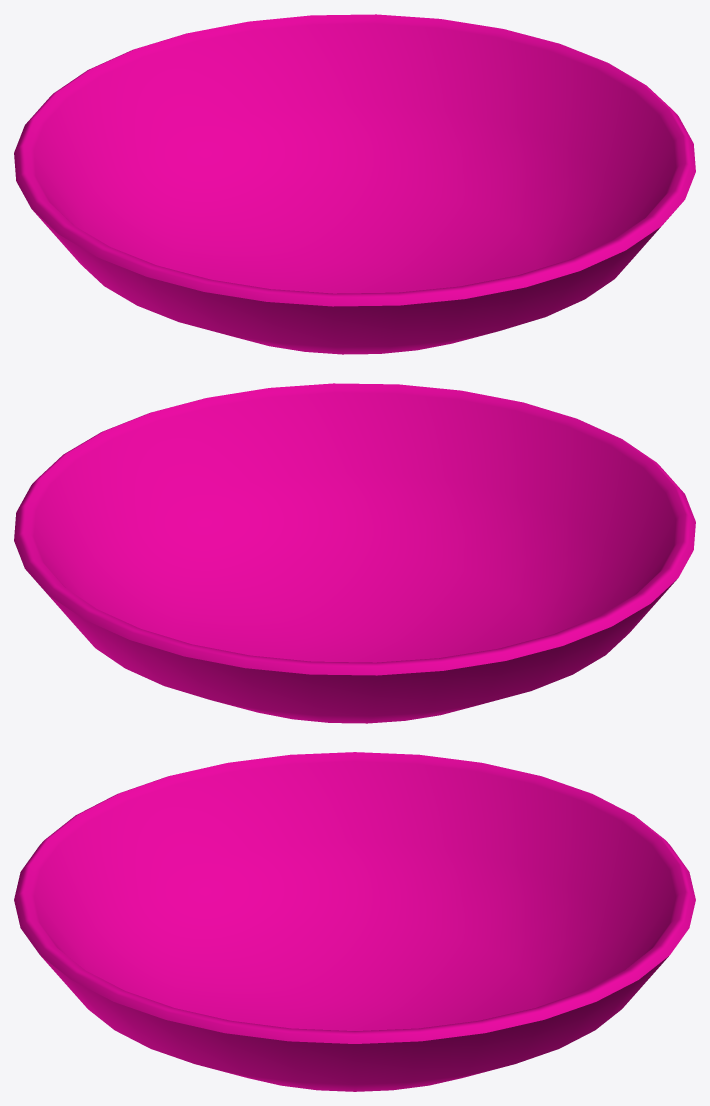
File: SM_SunakTabak.fbx
The picture shows the model from 3 angles, top to bottom: view 1: azimuth 30°, elevation 25°; view 2: azimuth 150°, elevation 25°; view 3: azimuth 270°, elevation 25°; orthographic projection.
Visible parts, largest first — view 1: SM_Sunak_Kase; view 2: SM_Sunak_Kase; view 3: SM_Sunak_Kase.
Boxes of the visible parts, x1=… form: SM_Sunak_Kase: x1=14, y1=14, x2=695, y2=354; SM_Sunak_Kase: x1=14, y1=383, x2=695, y2=723; SM_Sunak_Kase: x1=14, y1=752, x2=695, y2=1091.
Bounding box in the file's own units: 110 × 26.17 × 110.
